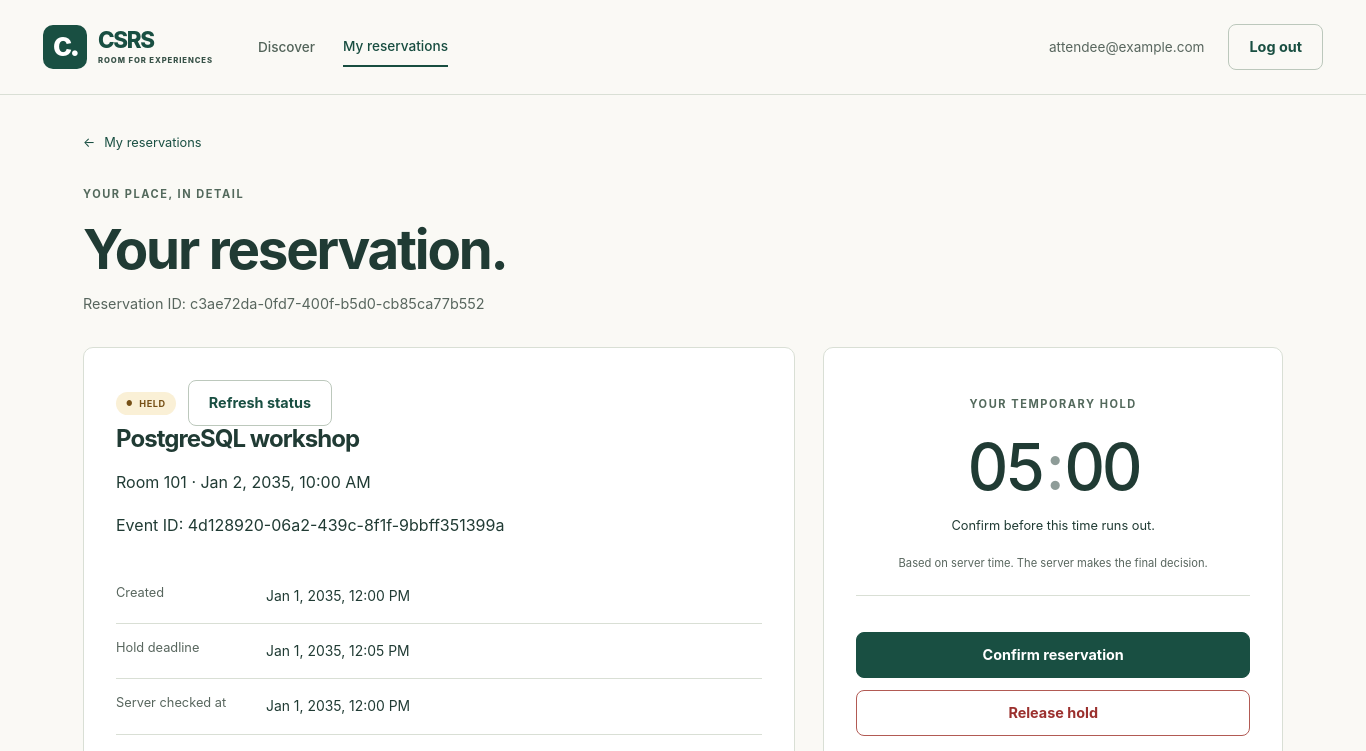
Scenario: events and reservation workflows › requires a destructive step before cancellation and refreshes status
Click the button "Release hold" at (1053, 713), box [856,690,1250,736]
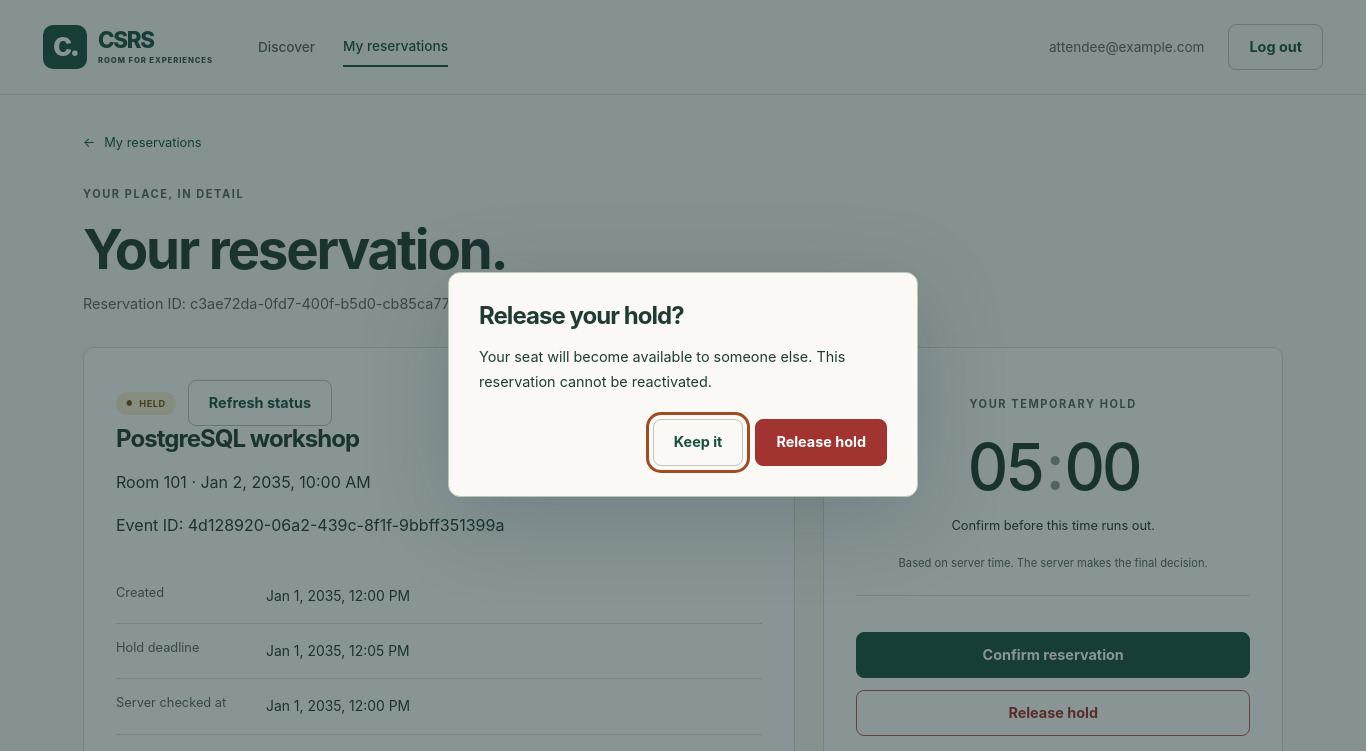
Click the button "Release hold" at (821, 442), box [755,419,887,466]
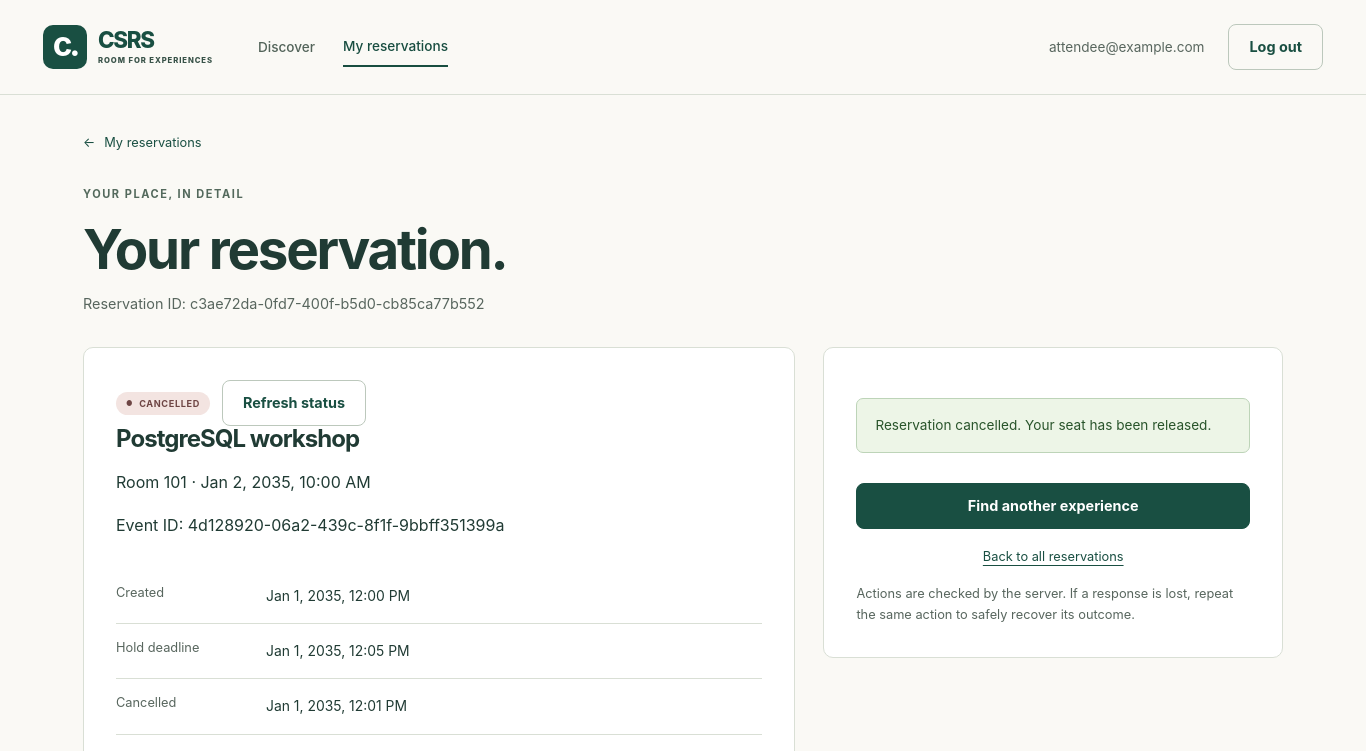
Now the text "CANCELLED" is shown, box [139,398,200,409]
Now the button "Confirm reservation" is gone
